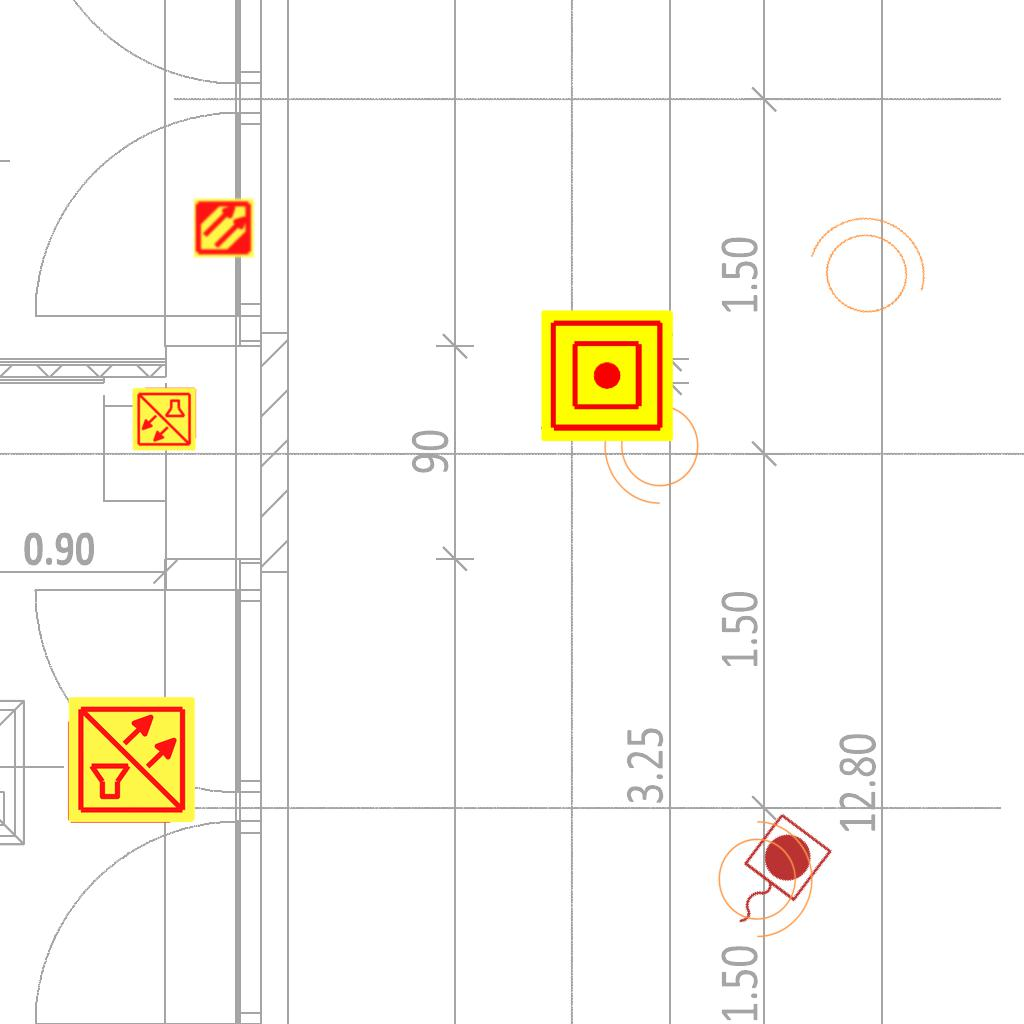ASR_Ansaugrauchmelder: (193, 197, 255, 259)
NAM-Nichtautomatischer_Melder: (541, 310, 673, 442)
OKW_Multisensormelder_(Kombination_optischer_Rauch-Kahlenmonoxid_Waerme-Melder): (66, 694, 198, 826), (131, 386, 197, 452)
Scheinwerfer_fuer_Alarmbeleuchtung: (785, 195, 945, 341), (599, 383, 711, 515), (706, 810, 818, 942)
Zugtaster: (706, 806, 838, 948)
